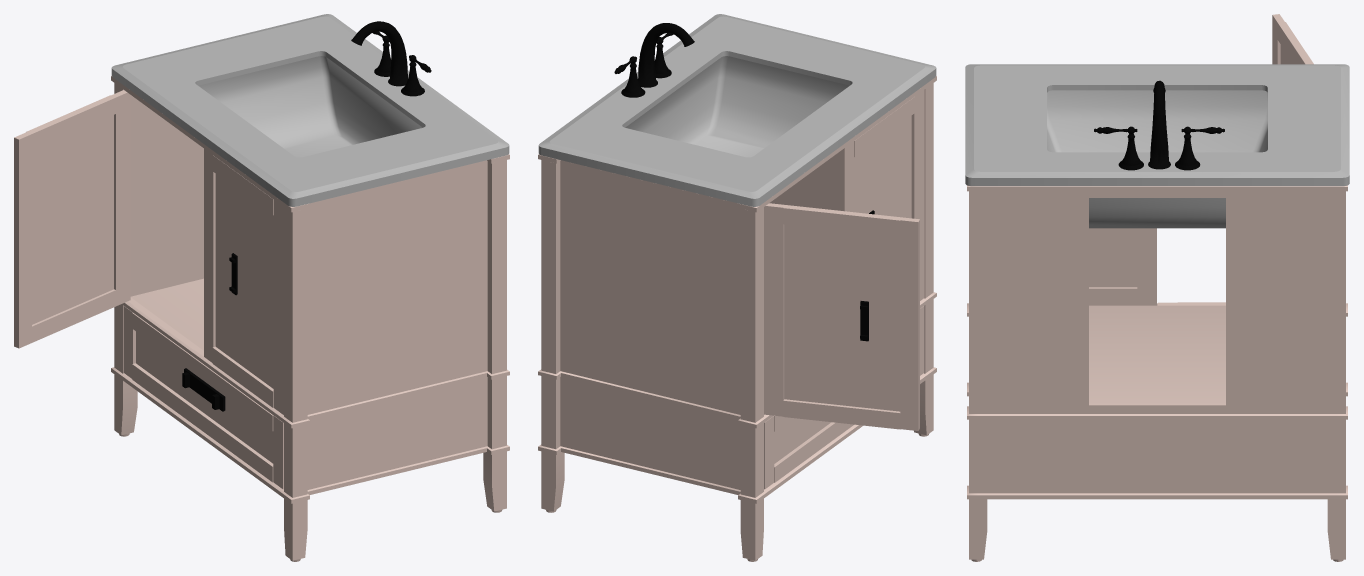
Rendered from rakovina.fbx.
3 views of the same model, side by side, from view 1: azimuth 30°, elevation 25°; view 2: azimuth 150°, elevation 25°; view 3: azimuth 270°, elevation 25° (orthographic). The views are drawn at different scales.
Visible parts, largest first — view 1: durakblya, left__door, durakblya.001, ruchka_niz; view 2: durakblya, left__door, durakblya.001; view 3: durakblya, durakblya.001, left__door.
Boxes of the visible parts, bbox=[...] form: durakblya: bbox=[111, 14, 509, 561]; left__door: bbox=[14, 90, 130, 348]; durakblya.001: bbox=[351, 21, 431, 96]; ruchka_niz: bbox=[182, 368, 225, 411]; durakblya: bbox=[538, 14, 936, 561]; left__door: bbox=[764, 203, 919, 430]; durakblya.001: bbox=[614, 23, 694, 97]; durakblya: bbox=[965, 64, 1349, 561]; durakblya.001: bbox=[1094, 80, 1224, 170]; left__door: bbox=[1272, 14, 1313, 64].
Size of the model in its own units: 91.68 by 109 by 82.74.
